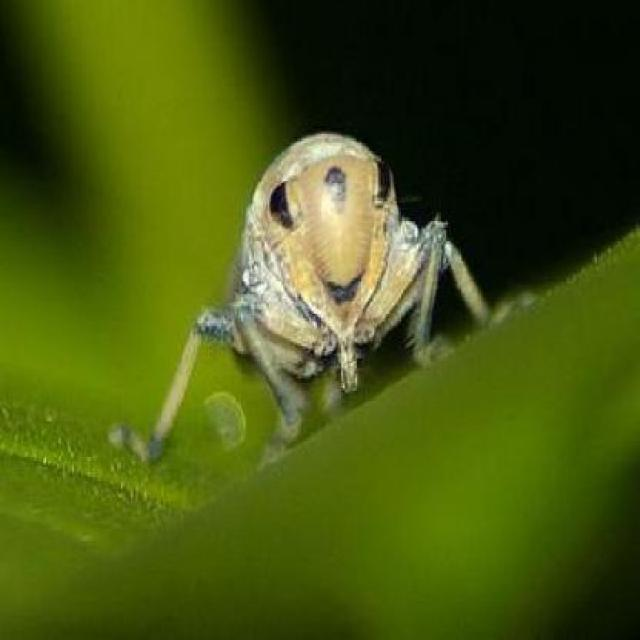green-leafhopper: (194, 126, 443, 423)
